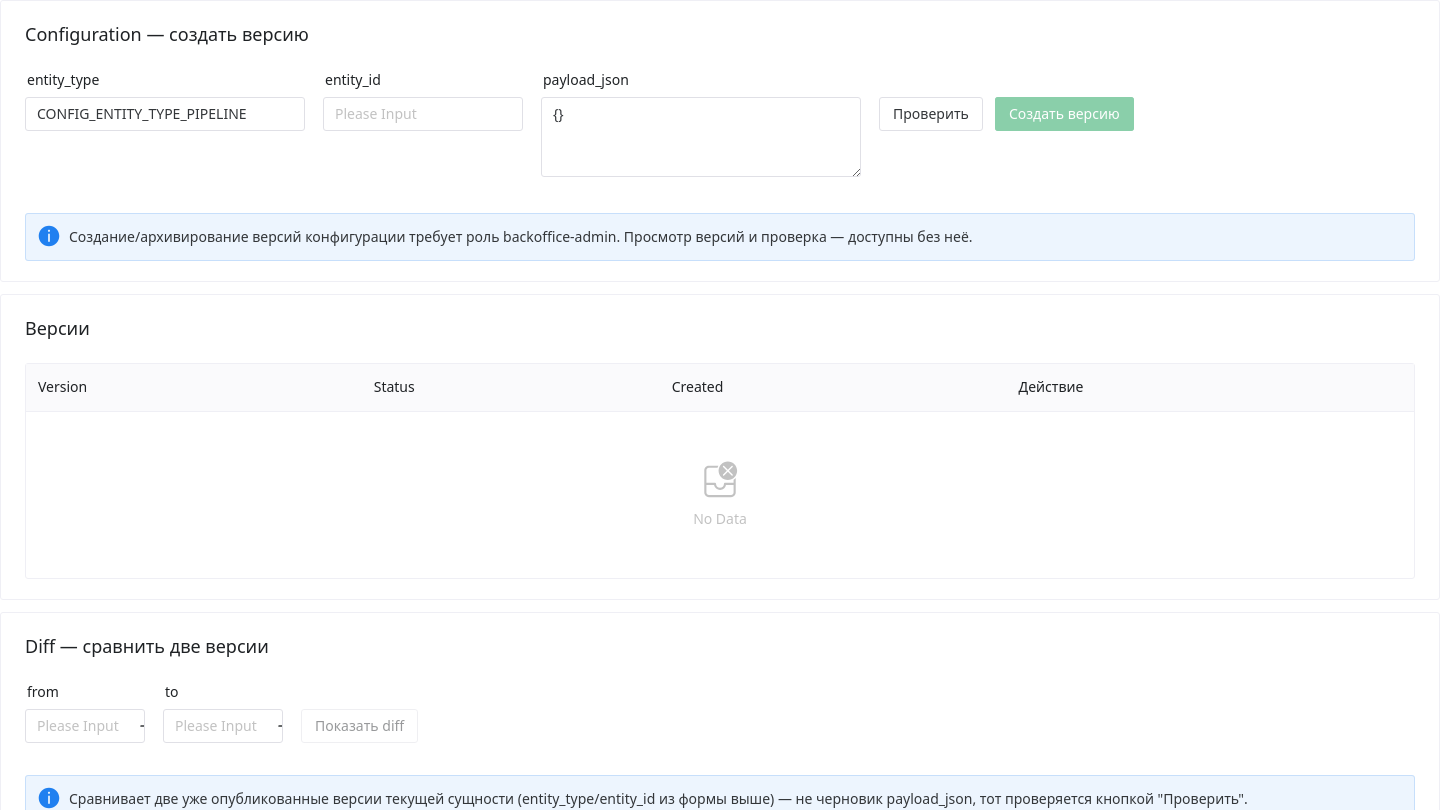
Scenario: ConfigView — Preview/Diff (Ф10) › 'Проверить' отправляет POST /config/versions/validate и показывает ошибки, не бросает исключение
Click the button "Проверить". click: (931, 114)
box: [879, 97, 983, 131]
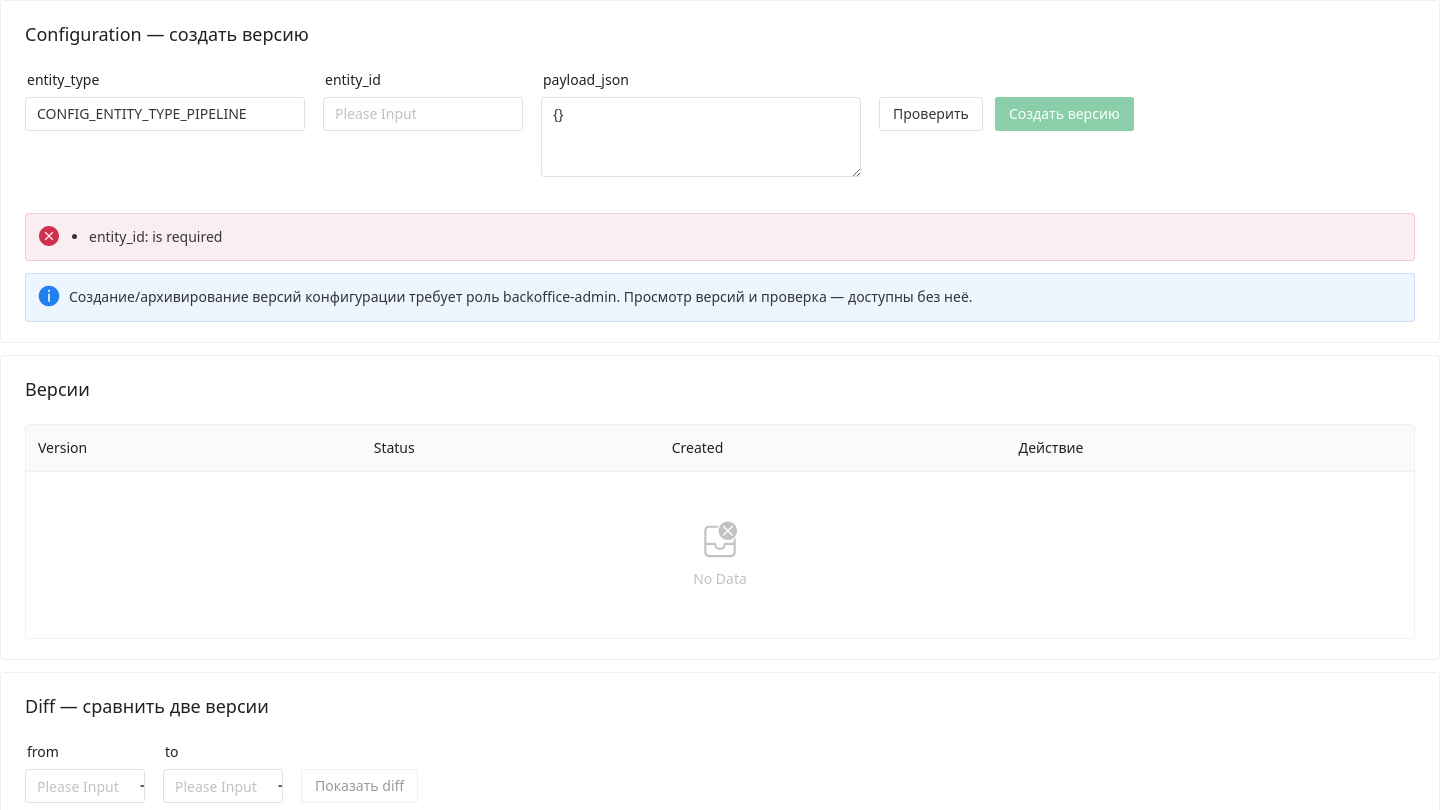
Expected: the text "entity_id: is required" is shown, [89, 227, 222, 246]
